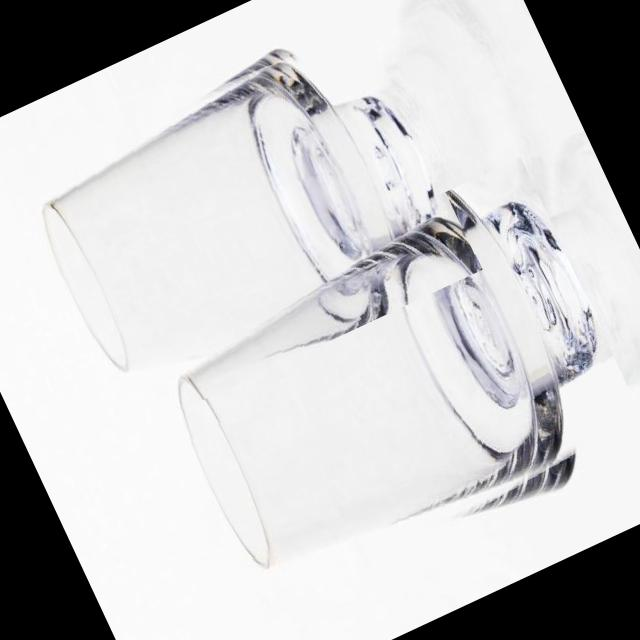Glass: (140, 155, 640, 623), (10, 8, 482, 432)
